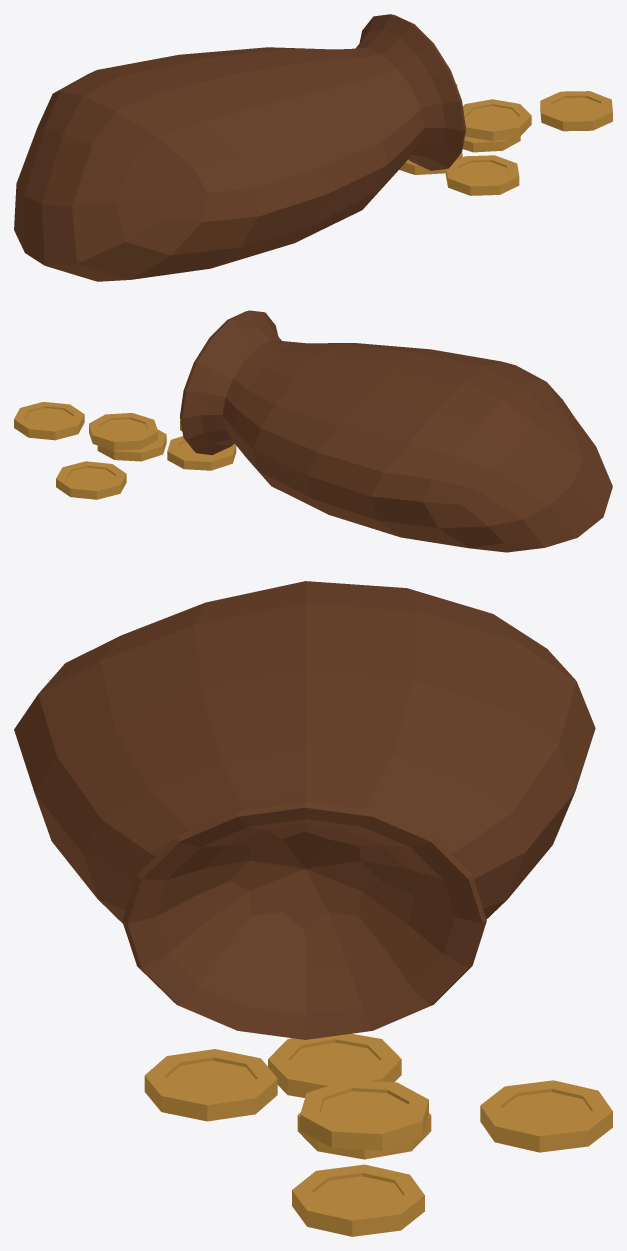
File: Bag_Coins.glb
3 views of the same model, one above another, from view 1: azimuth 30°, elevation 25°; view 2: azimuth 150°, elevation 25°; view 3: azimuth 270°, elevation 25° (orthographic). The views are drawn at different scales.
Parts seen in each view (by area): view 1: Bag_Coins; view 2: Bag_Coins; view 3: Bag_Coins.
Part boxes in pixels (<box>): Bag_Coins: <box>14,14,612,281</box>; Bag_Coins: <box>14,310,612,552</box>; Bag_Coins: <box>14,581,612,1236</box>.
Size of the model in its own units: 44.2 by 11.46 by 22.22.
